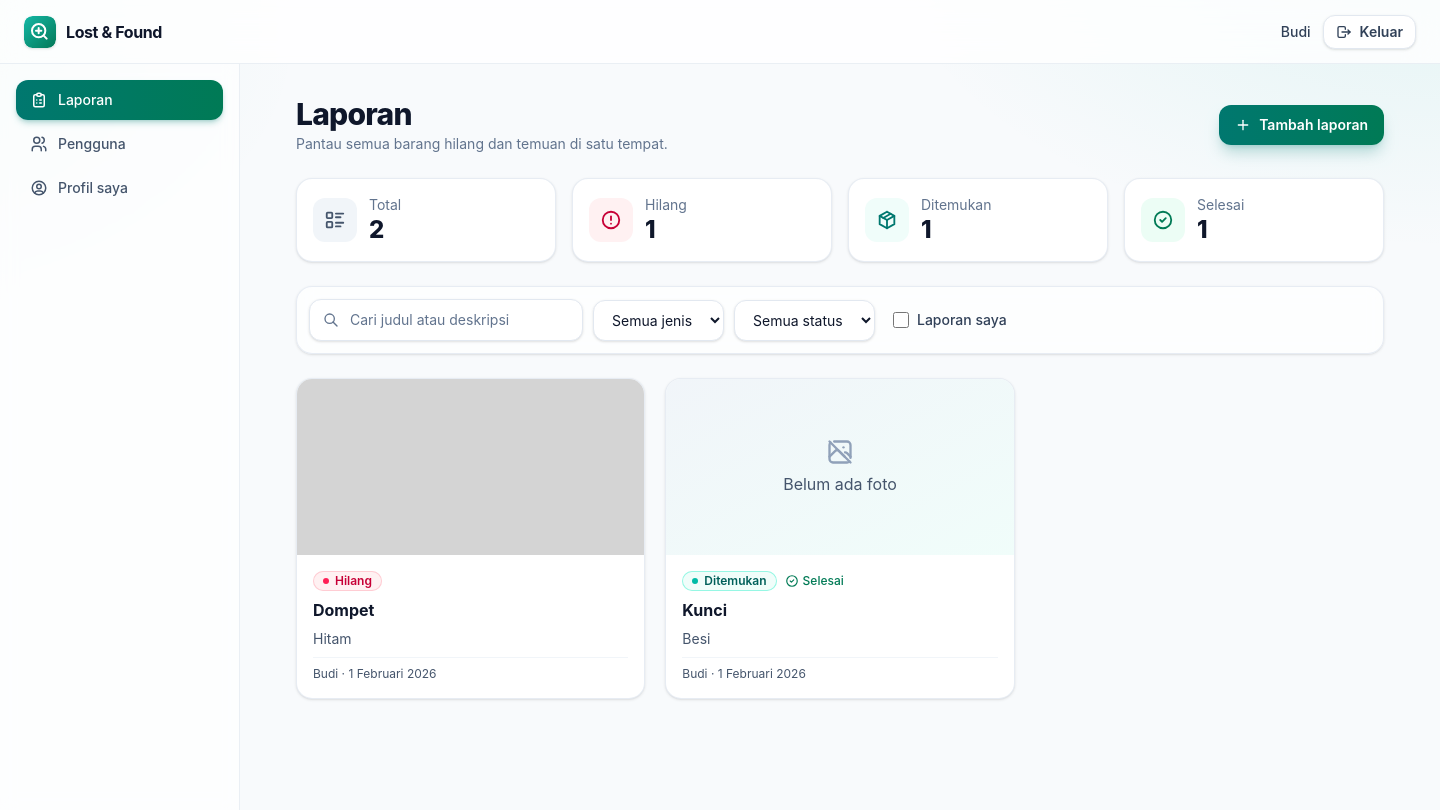
Test: Home page › adds a report through the modal
Click the button "Tambah laporan" at (1302, 125), box [1219,105,1384,145]
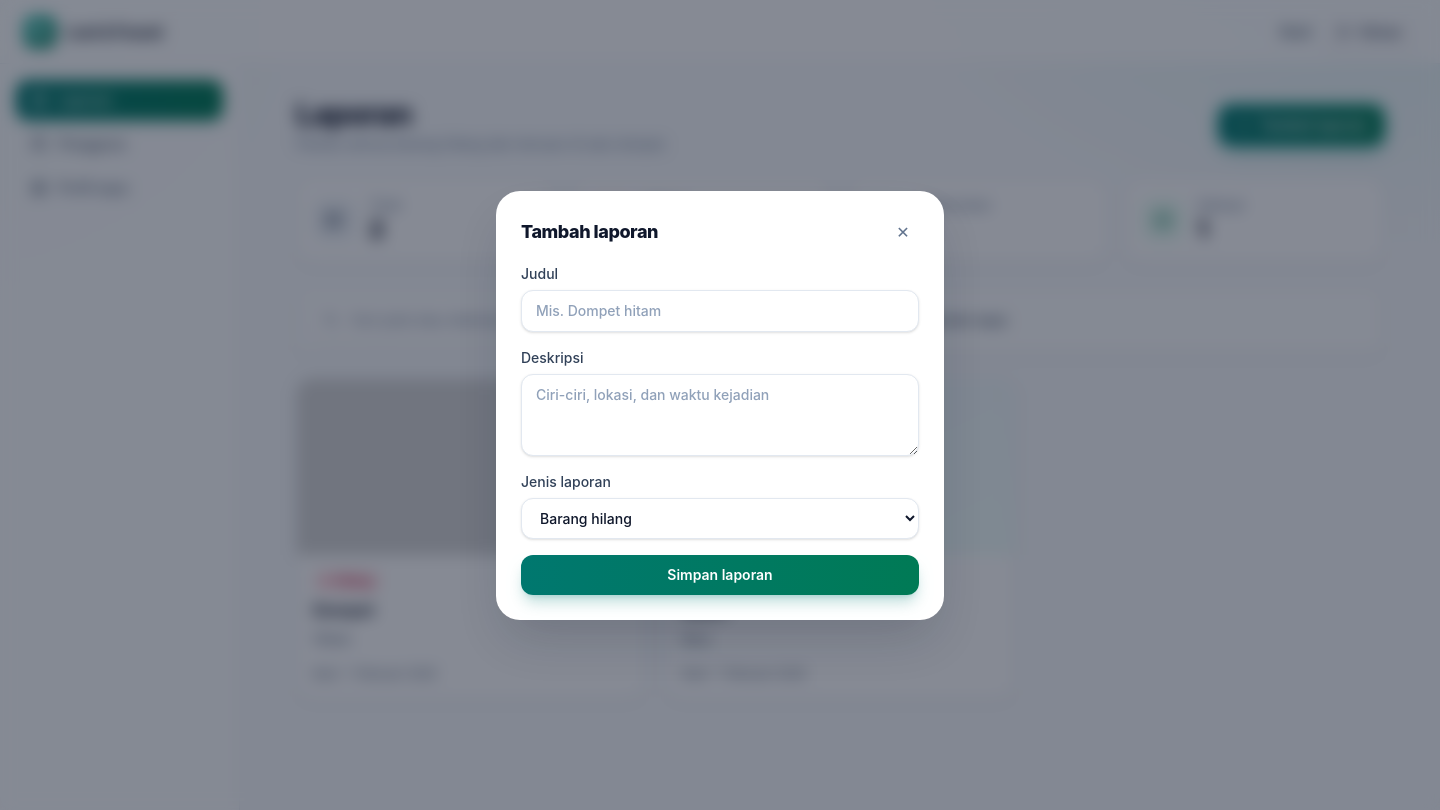
Type "Tas" into the field with id "report-title" at (720, 310), box [521,290,919,332]
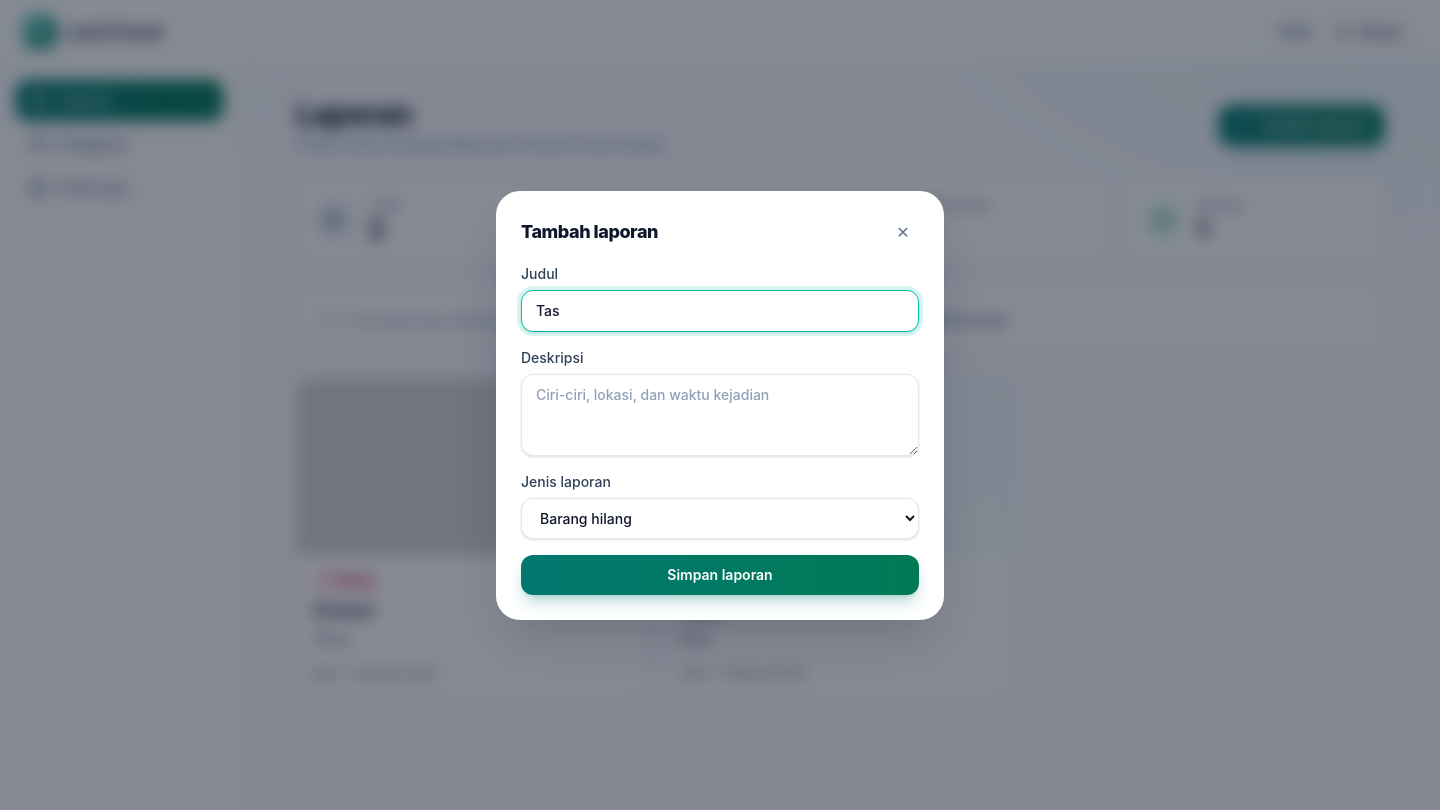
Type "Biru" into the text box with id "report-description" at (720, 414), box [521,374,919,456]
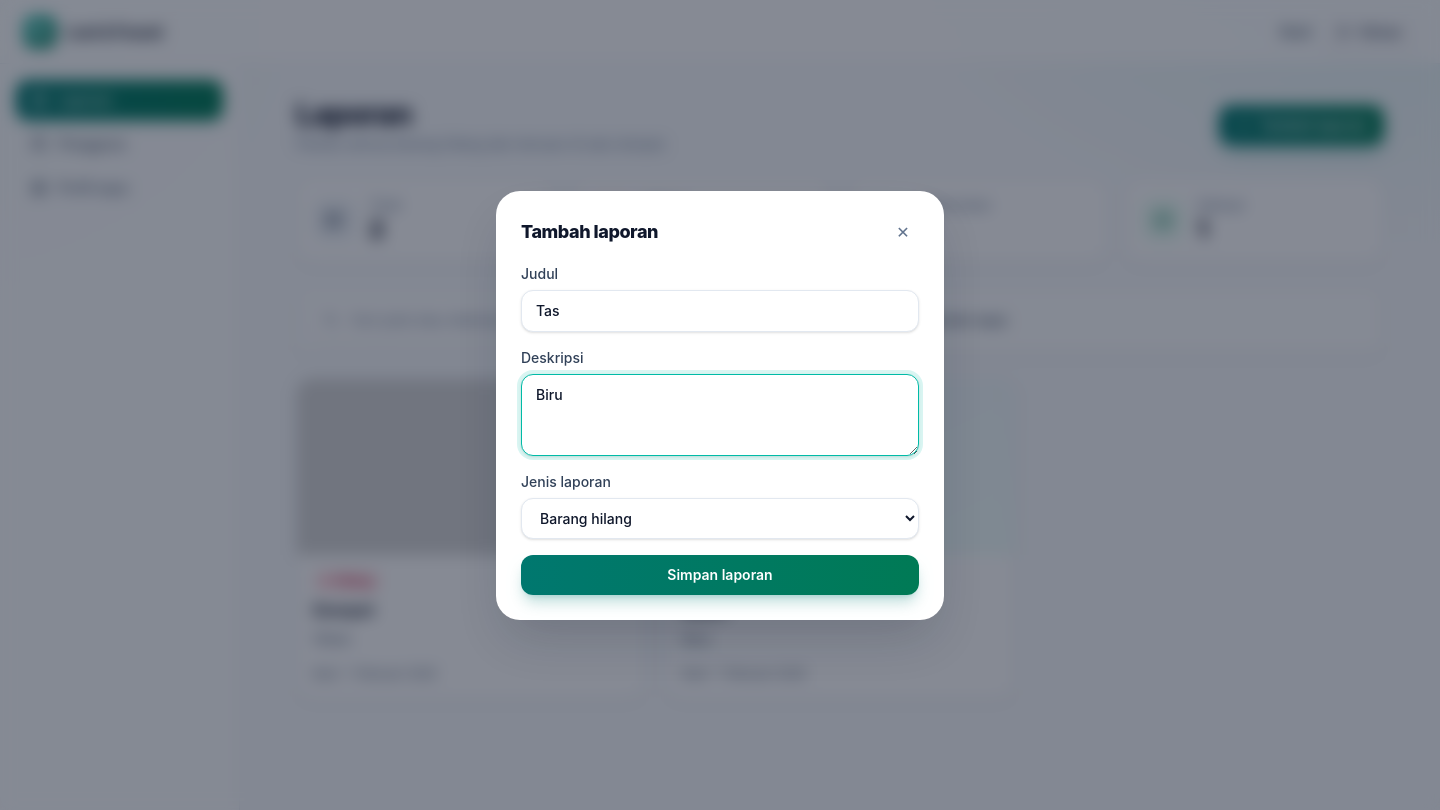
Click the button "Simpan laporan" at (720, 574), box [521,554,919,594]
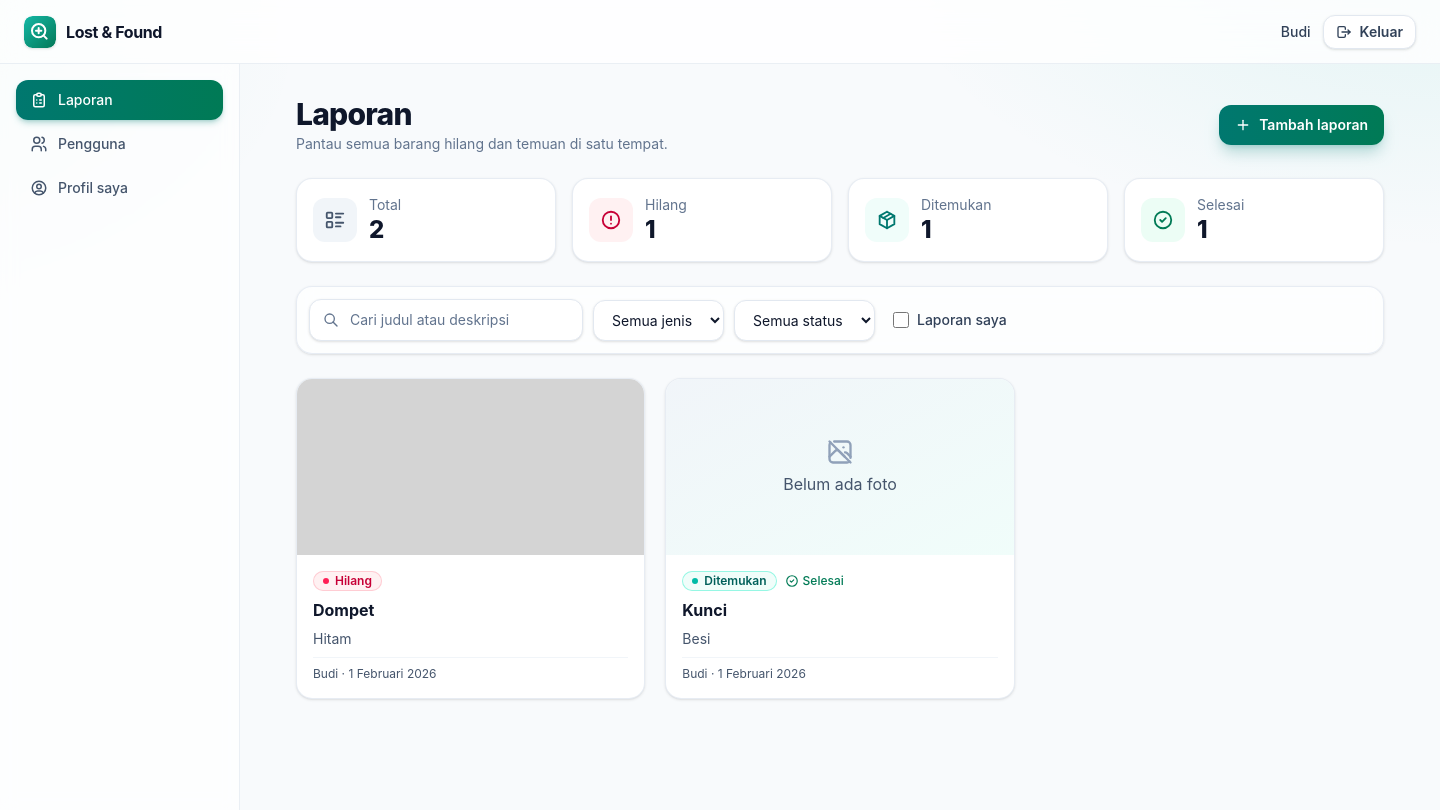
Expected: the dialog is gone
